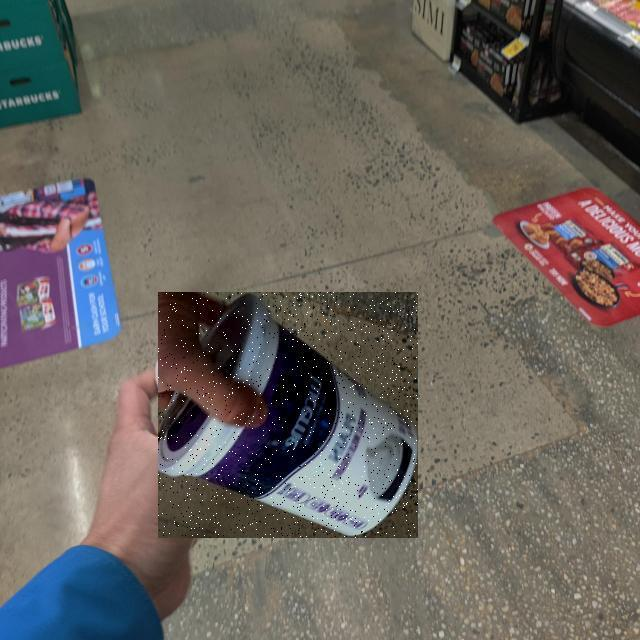Yoghurt: (159, 292, 419, 538)
